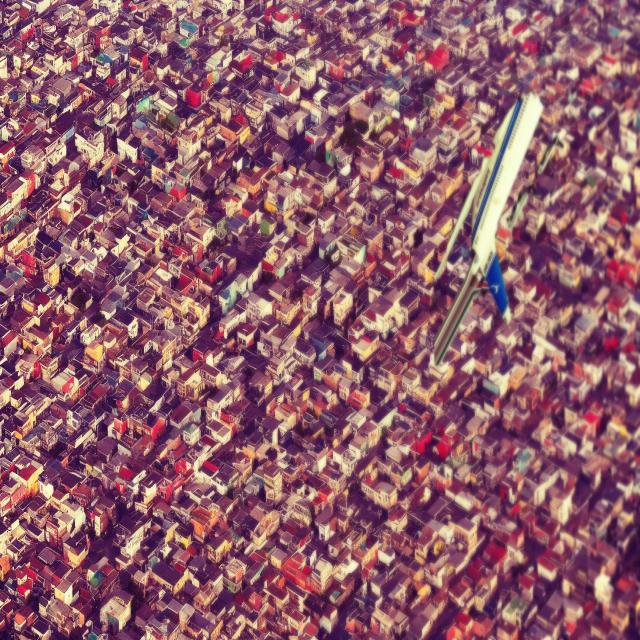airplane: (431, 89, 544, 368)
